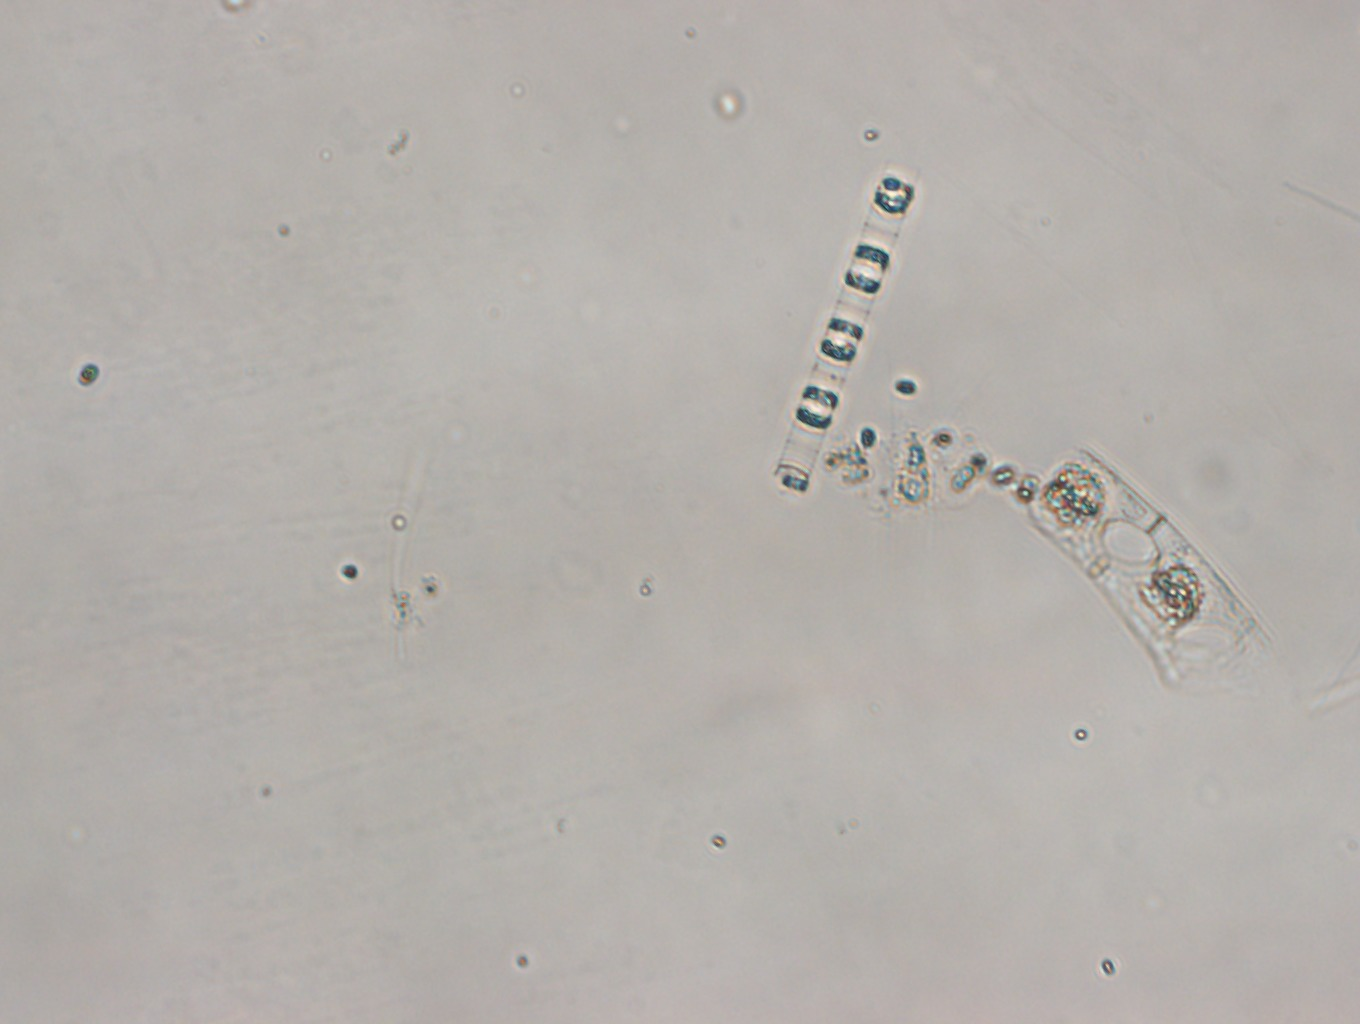eucampia: (1034, 447, 1252, 692)
skeletonema: (768, 172, 917, 490)
